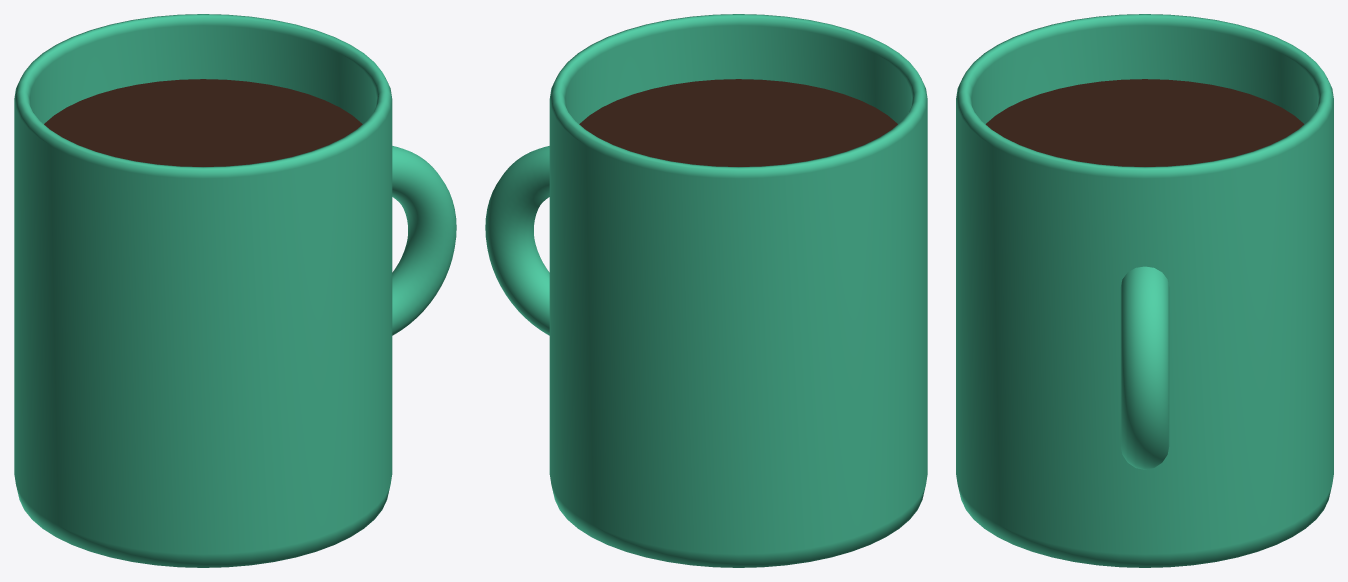
The model's file is mug-v1.glb.
The picture shows the model from 3 angles, left to right: view 1: azimuth 30°, elevation 25°; view 2: azimuth 150°, elevation 25°; view 3: azimuth 270°, elevation 25°; orthographic projection.
Size of the model in its own units: 0.1075 by 0.1 by 0.085.
